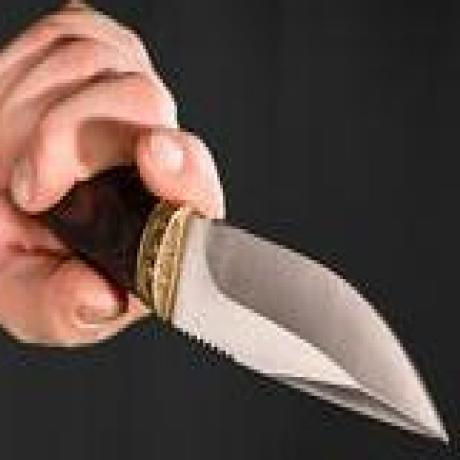1: (0, 4, 226, 350)
weapon: (158, 206, 452, 444)
